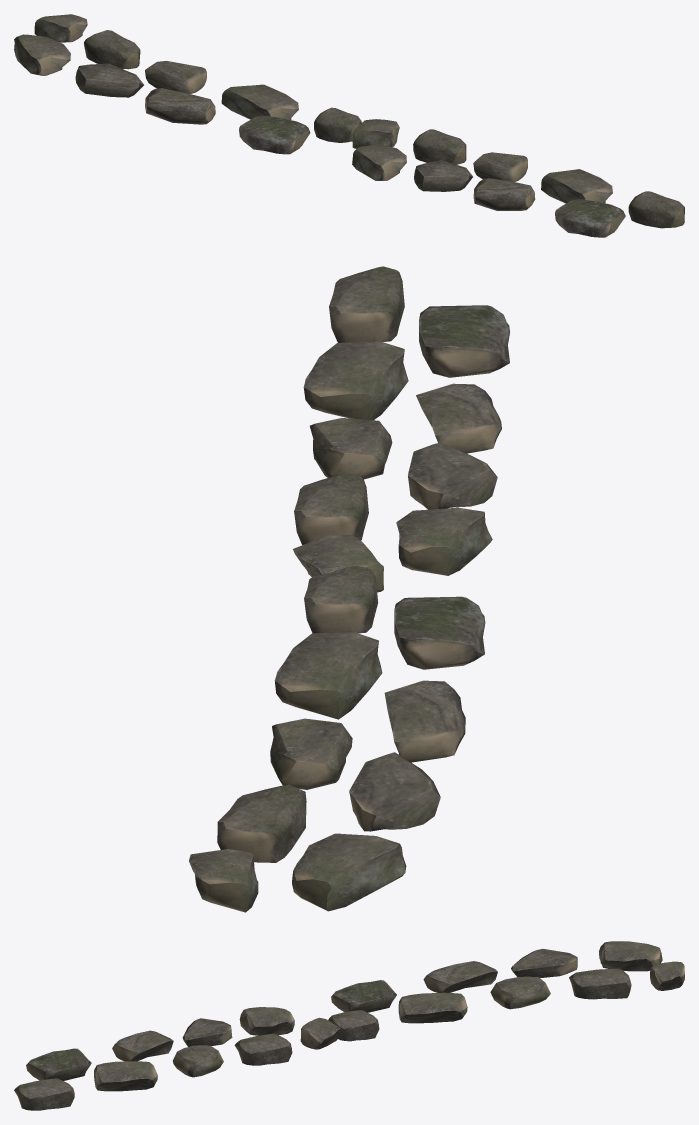
File: SM_Stone01D_Splines_19.fbx
3 renders of one model, top to bottom at view 1: azimuth 30°, elevation 25°; view 2: azimuth 150°, elevation 25°; view 3: azimuth 270°, elevation 25°, orthographic. The views are drawn at different scales.
Parts seen in each view (by area): view 1: SM_Stone01D_Splines_19; view 2: SM_Stone01D_Splines_19; view 3: SM_Stone01D_Splines_19.
Boxes of the visible parts, bbox=[...] form: SM_Stone01D_Splines_19: bbox=[14, 14, 684, 237]; SM_Stone01D_Splines_19: bbox=[189, 266, 509, 912]; SM_Stone01D_Splines_19: bbox=[14, 941, 684, 1110].
Bounding box in the file's own units: 315 × 574 × 20.92.
